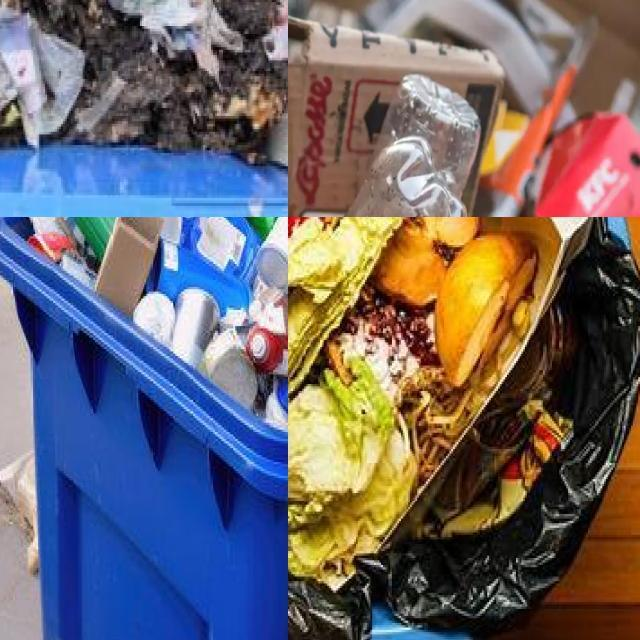Garbage: (288, 217, 640, 640), (288, 0, 640, 217), (10, 217, 288, 445)
Plastic_Container: (145, 239, 252, 315), (257, 217, 288, 293), (246, 326, 288, 377)
Plastic_bottle: (375, 75, 481, 198)
Plastic_wraper: (418, 325, 573, 538)
tin_box: (171, 288, 219, 368)
